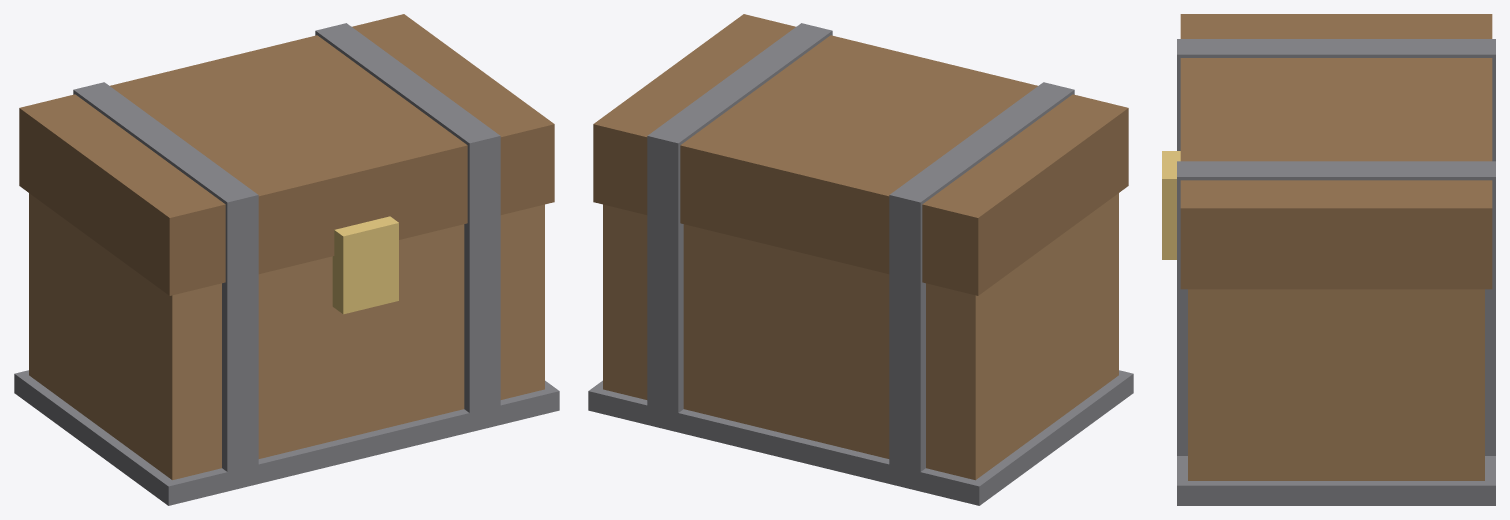
Rendered from chest.glb.
The picture shows the model from 3 angles, left to right: view 1: azimuth 30°, elevation 25°; view 2: azimuth 150°, elevation 25°; view 3: azimuth 270°, elevation 25°; orthographic projection. The views are drawn at different scales.
Bounding box in the file's own units: 0.63 × 0.445 × 0.45.
